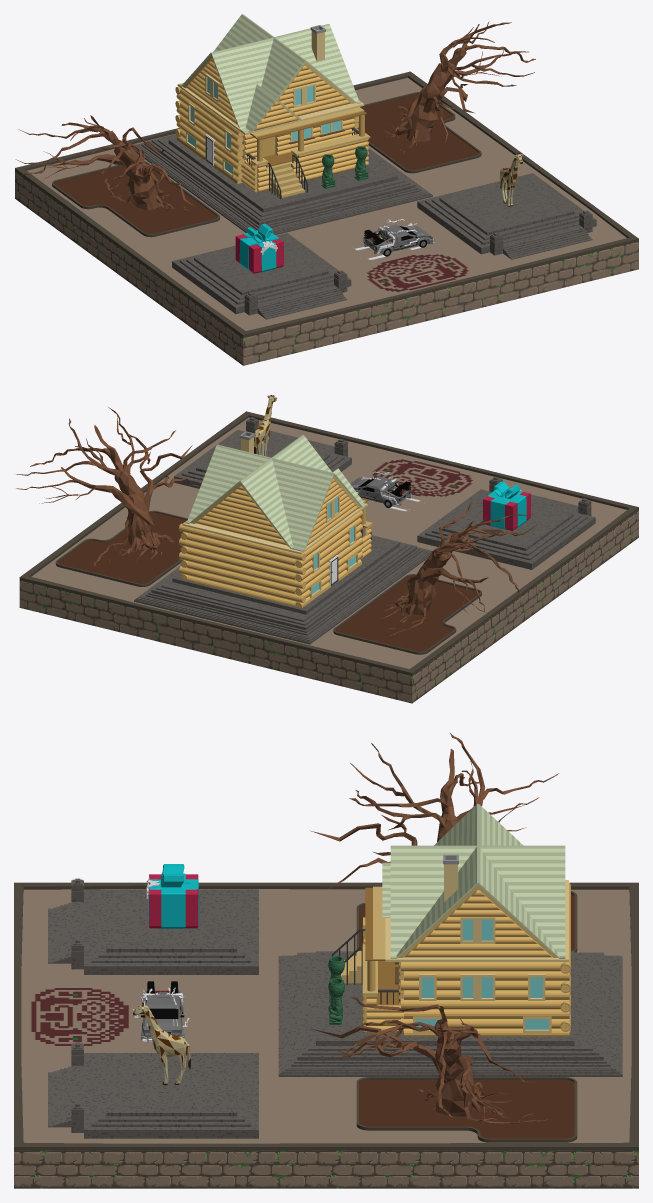
3 views of the same model, one above another, from view 1: azimuth 30°, elevation 25°; view 2: azimuth 150°, elevation 25°; view 3: azimuth 270°, elevation 25° (orthographic). The views are drawn at different scales.
Visible parts, largest first — view 1: Cube.011, Cube.1516, OBJRANDOM_GIANT_PRESENT, VEHICLES_DELOREAN, ANIMAL_JIRAFA; view 2: Cube.011, Cube.1516, OBJRANDOM_GIANT_PRESENT, VEHICLES_DELOREAN, ANIMAL_JIRAFA; view 3: Cube.011, Cube.1516, OBJRANDOM_GIANT_PRESENT, VEHICLES_DELOREAN, ANIMAL_JIRAFA.
Boxes of the visible parts, box(x1,y1,x2,y2) form: Cube.011: box(15, 21, 638, 365); Cube.1516: box(175, 14, 370, 199); OBJRANDOM_GIANT_PRESENT: box(235, 223, 283, 273); VEHICLES_DELOREAN: box(353, 219, 434, 259); ANIMAL_JIRAFA: box(499, 153, 523, 206); Cube.011: box(16, 407, 638, 703); Cube.1516: box(179, 431, 372, 607); OBJRANDOM_GIANT_PRESENT: box(483, 481, 530, 530); VEHICLES_DELOREAN: box(350, 471, 422, 511); ANIMAL_JIRAFA: box(254, 395, 276, 456); Cube.011: box(14, 733, 638, 1188); Cube.1516: box(331, 804, 570, 1036); OBJRANDOM_GIANT_PRESENT: box(146, 864, 198, 928); VEHICLES_DELOREAN: box(132, 981, 189, 1042); ANIMAL_JIRAFA: box(133, 1002, 190, 1085).
Bounding box in the file's own units: 5099 × 1811 × 4000.
42 materials, 6 textured.
